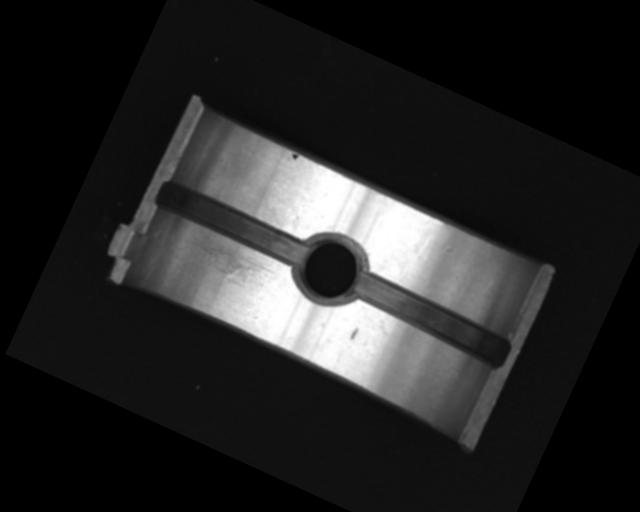blot: (288, 151, 299, 162)
bruise: (347, 325, 360, 341)
gap: (344, 267, 514, 371), (153, 176, 311, 272)
hole: (285, 222, 375, 312)
nick: (396, 234, 431, 289)
scratch: (177, 228, 280, 298)
